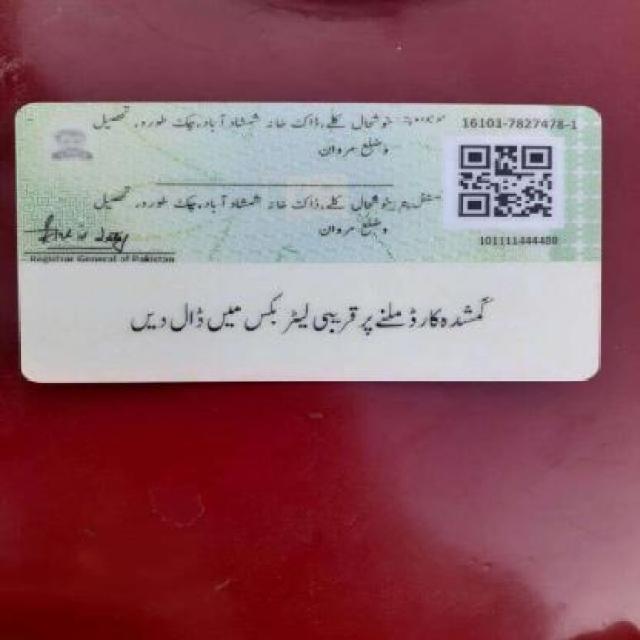Back: (9, 94, 606, 380)
